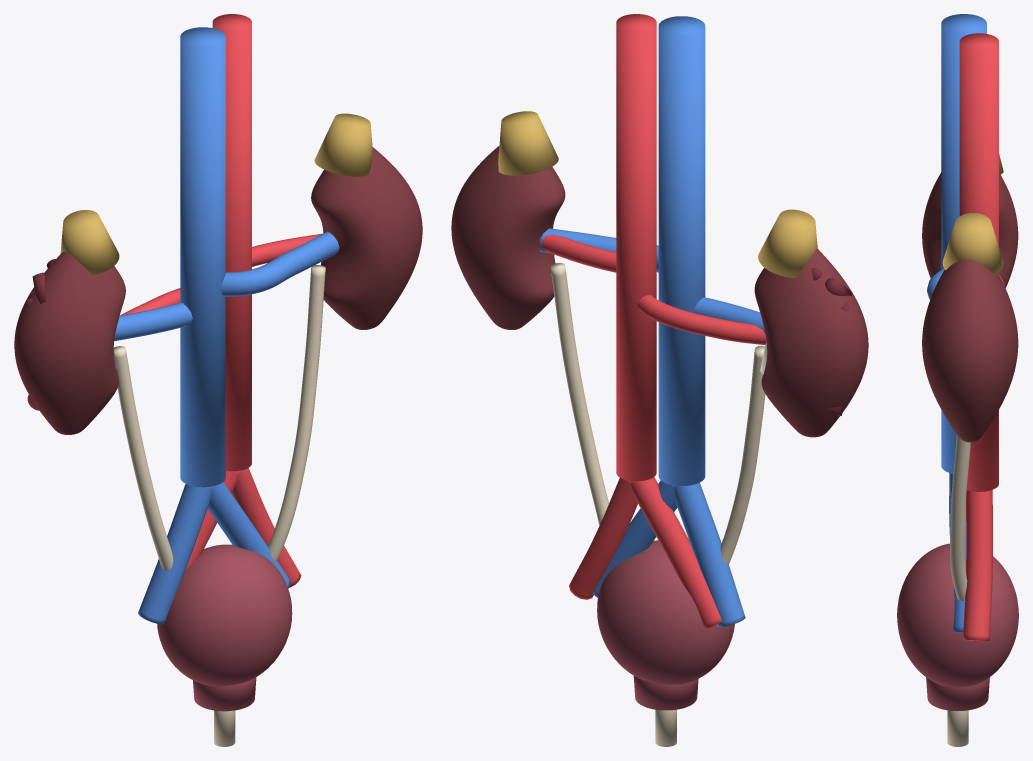
File: human-excretory-system.glb
3 views of the same model, side by side, from view 1: azimuth 30°, elevation 25°; view 2: azimuth 150°, elevation 25°; view 3: azimuth 270°, elevation 25° (orthographic). The views are drawn at different scales.
Visible parts, largest first — view 1: Inferior_Vena_Cava, Kidney_Right_Full, Urinary_Bladder, Kidney_Left_Full, Abdominal_Aorta, Ureter_Left, Iliac_Vein_R, Ureter_Right, Renal_Vein_Left, Adrenal_Gland_Left, Adrenal_Gland_Right, Iliac_Vein_L (+6 smaller); view 2: Inferior_Vena_Cava, Abdominal_Aorta, Kidney_Right_Full, Kidney_Left_Full, Urinary_Bladder, Iliac_Vein_R, Ureter_Left, Iliac_Artery_R, Iliac_Artery_L, Ureter_Right, Adrenal_Gland_Left, Adrenal_Gland_Right (+7 smaller); view 3: Kidney_Left_Full, Urinary_Bladder, Abdominal_Aorta, Inferior_Vena_Cava, Iliac_Artery_L, Kidney_Right_Full, Adrenal_Gland_Left, Ureter_Left, Bladder_Neck, Urethra, Iliac_Vein_L.
Boxes of the visible parts, x1,y1,x2,y2 form: Inferior_Vena_Cava: (180, 27, 225, 487); Kidney_Right_Full: (14, 252, 125, 434); Urinary_Bladder: (157, 544, 292, 686); Kidney_Left_Full: (311, 147, 422, 329); Abdominal_Aorta: (212, 14, 251, 471); Ureter_Left: (268, 265, 325, 561); Iliac_Vein_R: (138, 484, 210, 624); Ureter_Right: (113, 346, 173, 570); Renal_Vein_Left: (221, 231, 339, 296); Adrenal_Gland_Left: (314, 113, 372, 176); Adrenal_Gland_Right: (60, 210, 119, 275); Iliac_Vein_L: (207, 482, 290, 588); Inferior_Vena_Cava: (658, 16, 705, 485); Abdominal_Aorta: (616, 14, 656, 481); Kidney_Right_Full: (754, 248, 868, 437); Kidney_Left_Full: (451, 146, 565, 329); Urinary_Bladder: (597, 540, 734, 684); Iliac_Vein_R: (674, 482, 745, 627); Ureter_Left: (550, 263, 608, 525); Iliac_Artery_R: (630, 477, 722, 628); Iliac_Artery_L: (569, 478, 637, 599); Ureter_Right: (720, 345, 765, 565); Adrenal_Gland_Left: (498, 111, 558, 175); Adrenal_Gland_Right: (758, 209, 817, 277); Kidney_Left_Full: (922, 259, 1018, 442); Urinary_Bladder: (897, 543, 1018, 687); Abdominal_Aorta: (959, 33, 998, 491); Inferior_Vena_Cava: (941, 14, 986, 473); Iliac_Artery_L: (963, 490, 992, 640); Kidney_Right_Full: (922, 172, 1018, 287); Adrenal_Gland_Left: (942, 213, 1003, 275); Ureter_Left: (950, 435, 970, 600); Bladder_Neck: (926, 677, 989, 711); Urethra: (947, 710, 968, 746); Iliac_Vein_L: (949, 473, 966, 632).
Bounding box in the file's own units: 0.1514 × 0.257 × 0.04.
